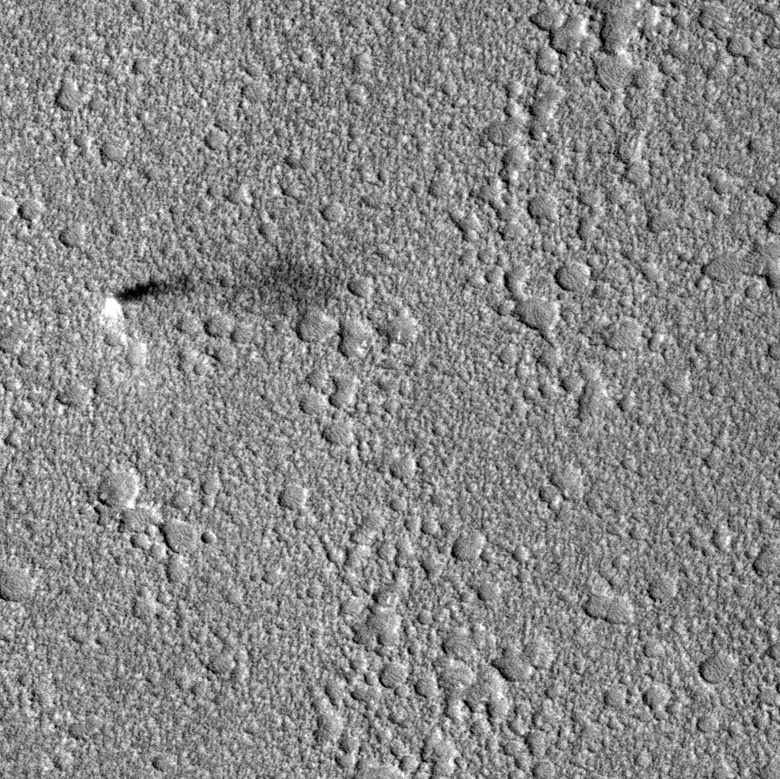dust_devil: (98, 270, 198, 323)
